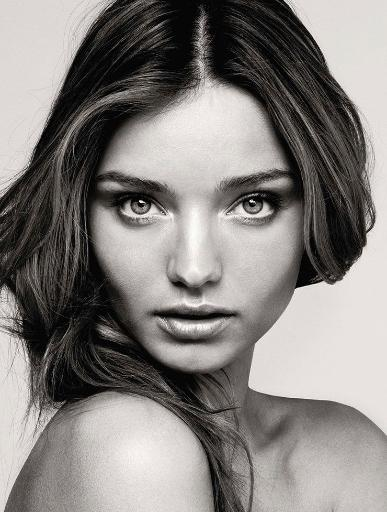left_eye: (226, 191, 284, 228)
left_lip_corner: (226, 308, 243, 327)
right_eye: (110, 192, 169, 228)
right_lip_corner: (150, 305, 166, 328)
